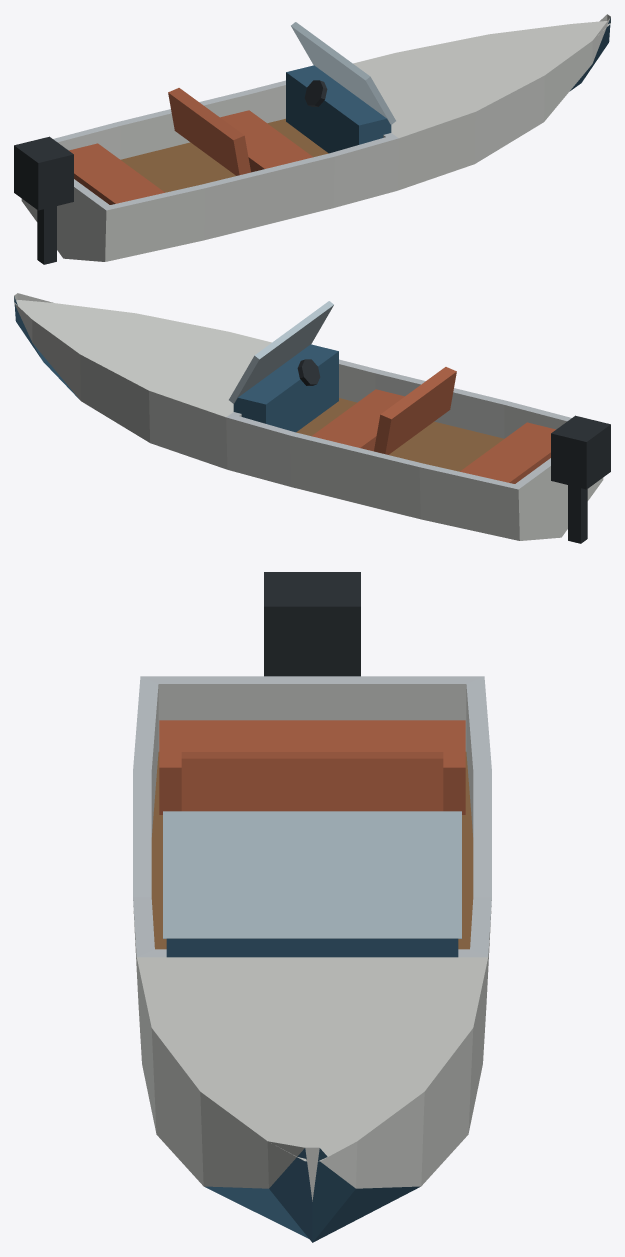
The model's file is motorboat.glb.
3 renders of one model, top to bottom at view 1: azimuth 30°, elevation 25°; view 2: azimuth 150°, elevation 25°; view 3: azimuth 270°, elevation 25°, orthographic. The views are drawn at different scales.
Parts seen in each view (by area): view 1: motorboat; view 2: motorboat; view 3: motorboat.
Part boxes in pixels (<box>): motorboat: <box>14,14,610,264</box>; motorboat: <box>14,293,610,543</box>; motorboat: <box>133,572,491,1242</box>.
Size of the model in its own units: 3.6 by 0.8523 by 0.96.
